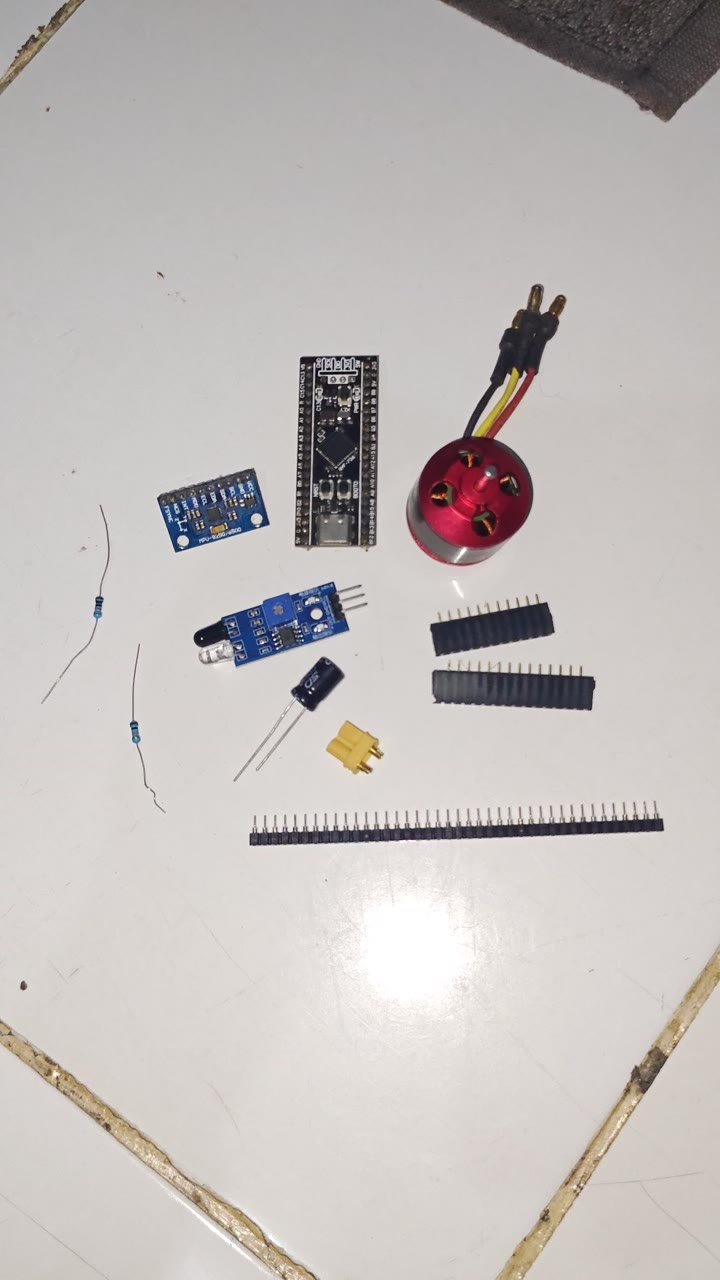bldc_motor: (398, 281, 567, 577)
elco_capacitor: (289, 662, 336, 712)
ir_sensor: (186, 585, 355, 668)
mpu6500: (152, 464, 265, 555)
pin_header: (230, 812, 661, 842), (425, 600, 559, 657), (424, 669, 593, 711)
resistor: (21, 506, 107, 730), (109, 651, 164, 845)
stm32f4: (291, 354, 363, 558)
xt30_female: (323, 722, 382, 776)
